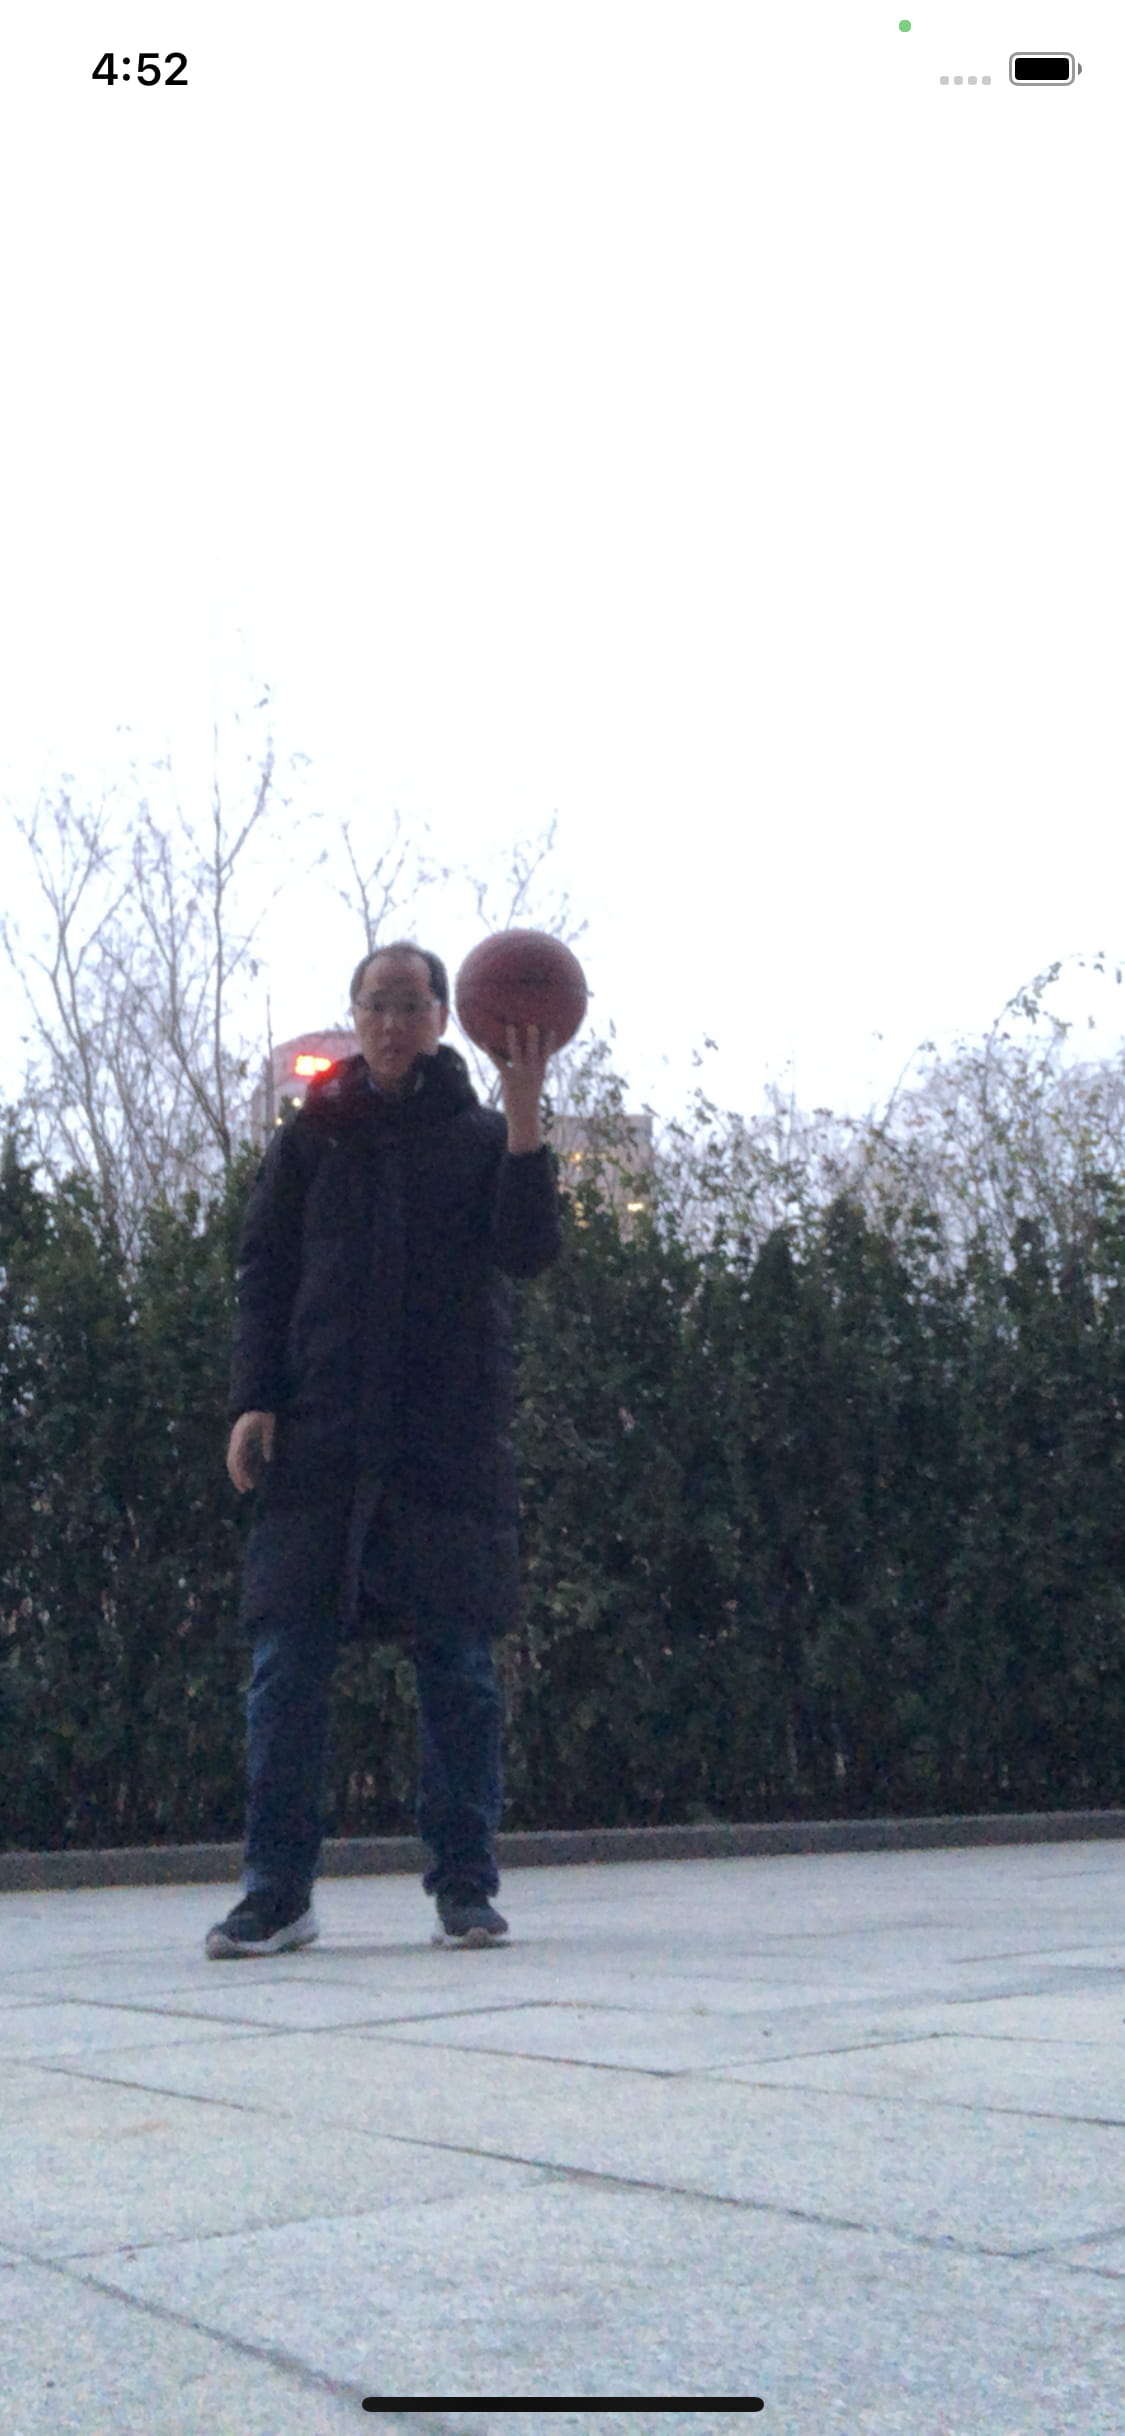ball: (455, 923, 587, 1063)
